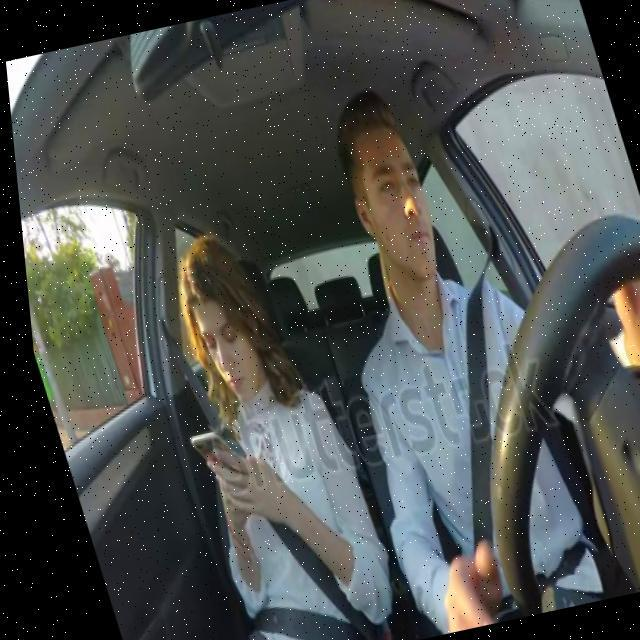PhoneCall: (178, 424, 237, 485)
